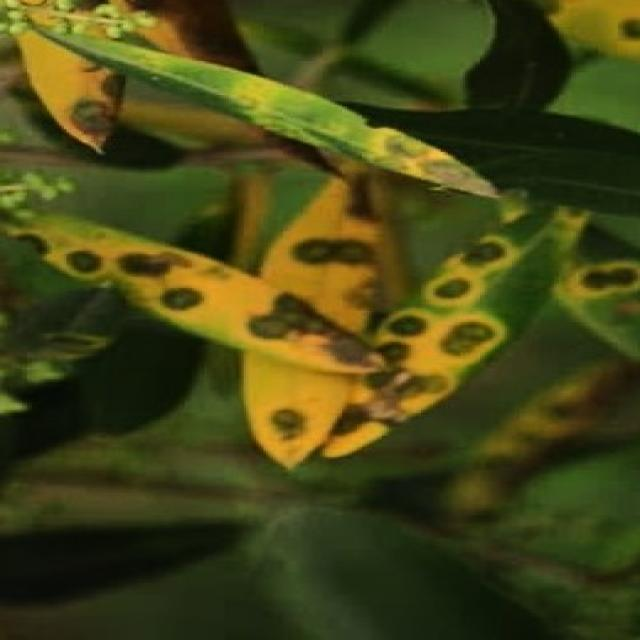Peacock Eye: (47, 31, 497, 197), (320, 207, 586, 457), (12, 217, 377, 375)
